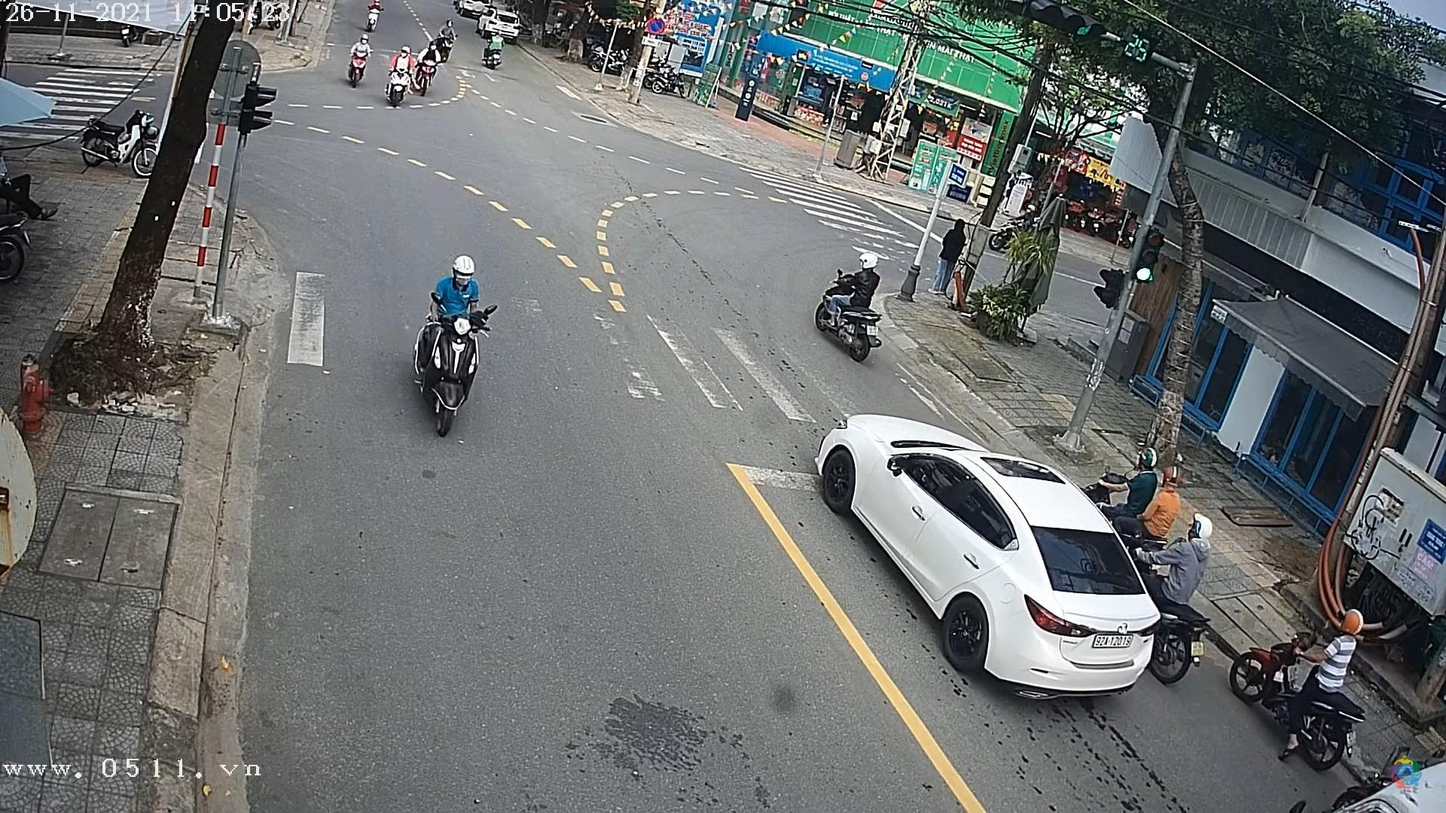car: (813, 412, 1199, 702)
motorbike: (1225, 622, 1370, 782), (411, 311, 488, 445), (816, 297, 883, 362), (386, 62, 412, 112), (343, 49, 372, 90), (485, 39, 508, 71)
